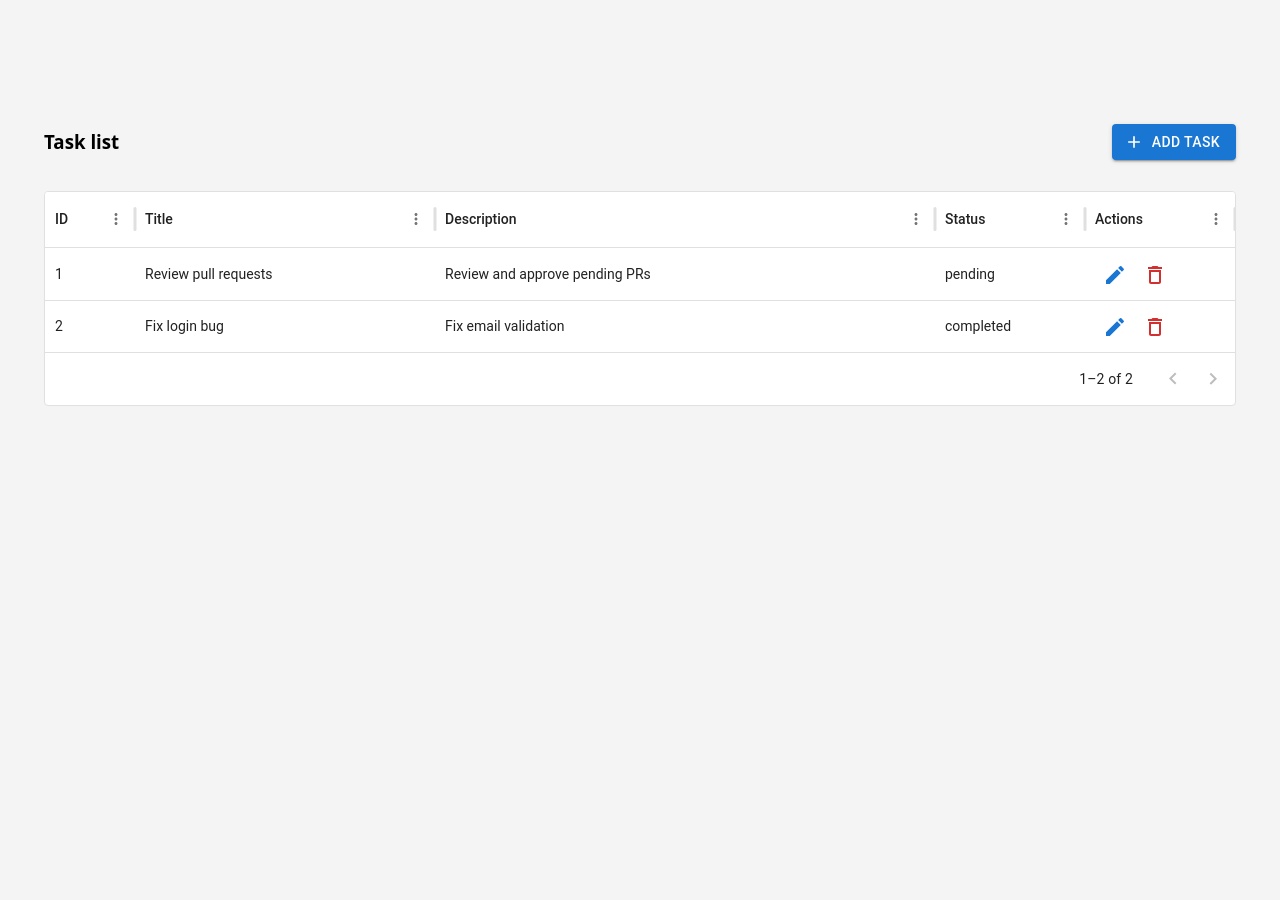
Test case: Tasks › Delete Task › closes confirmation dialog when cancel is clicked
Expected: the text "Review pull requests" is shown, [145,266,273,282]
Click the button named "Delete" in the row of "Review pull requests": coordinates (1155, 275) [1135,255,1175,295]
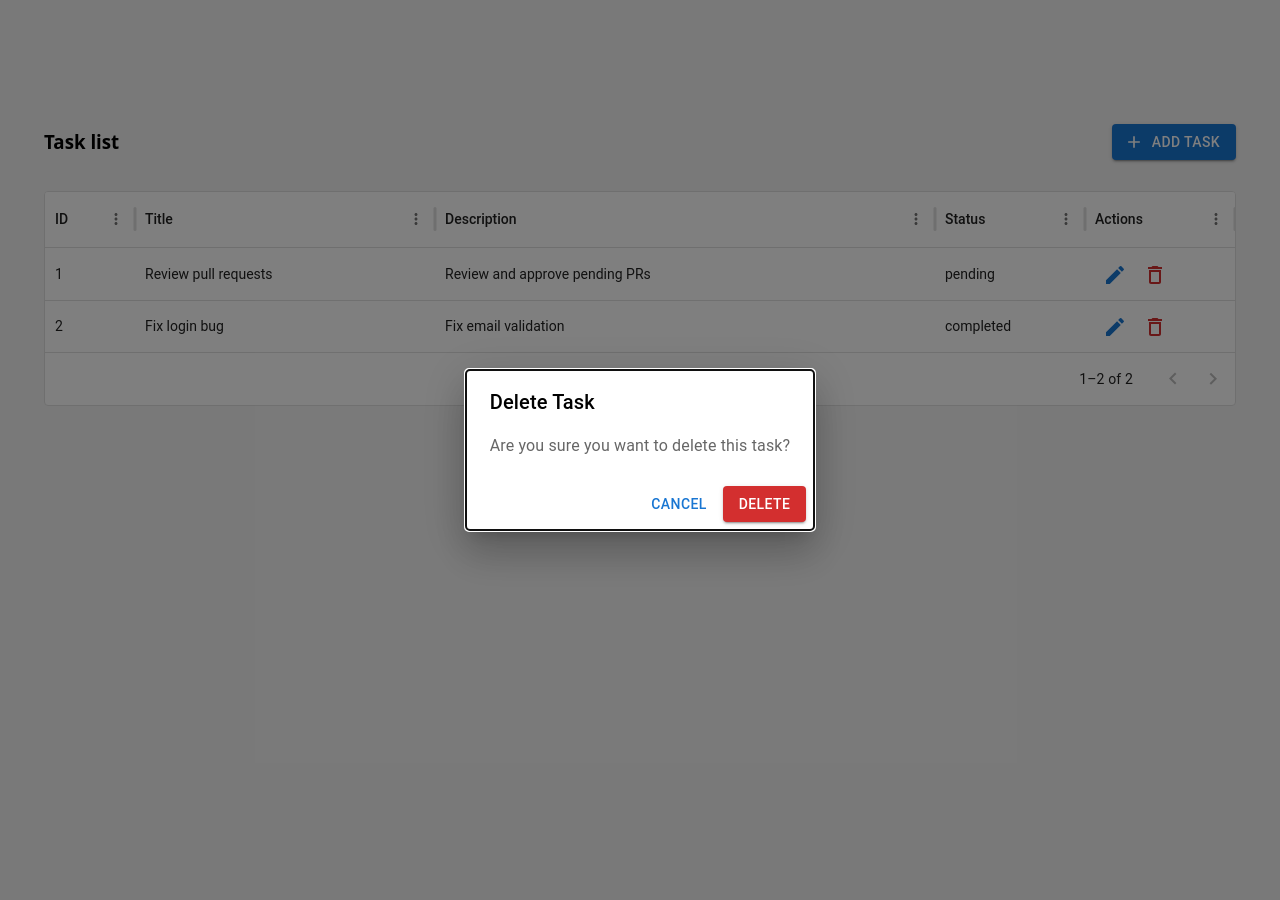
Expected: the heading "Delete Task" is shown, [490,390,595,414]
Click the button "Cancel": coordinates (679, 504) [643,486,715,522]
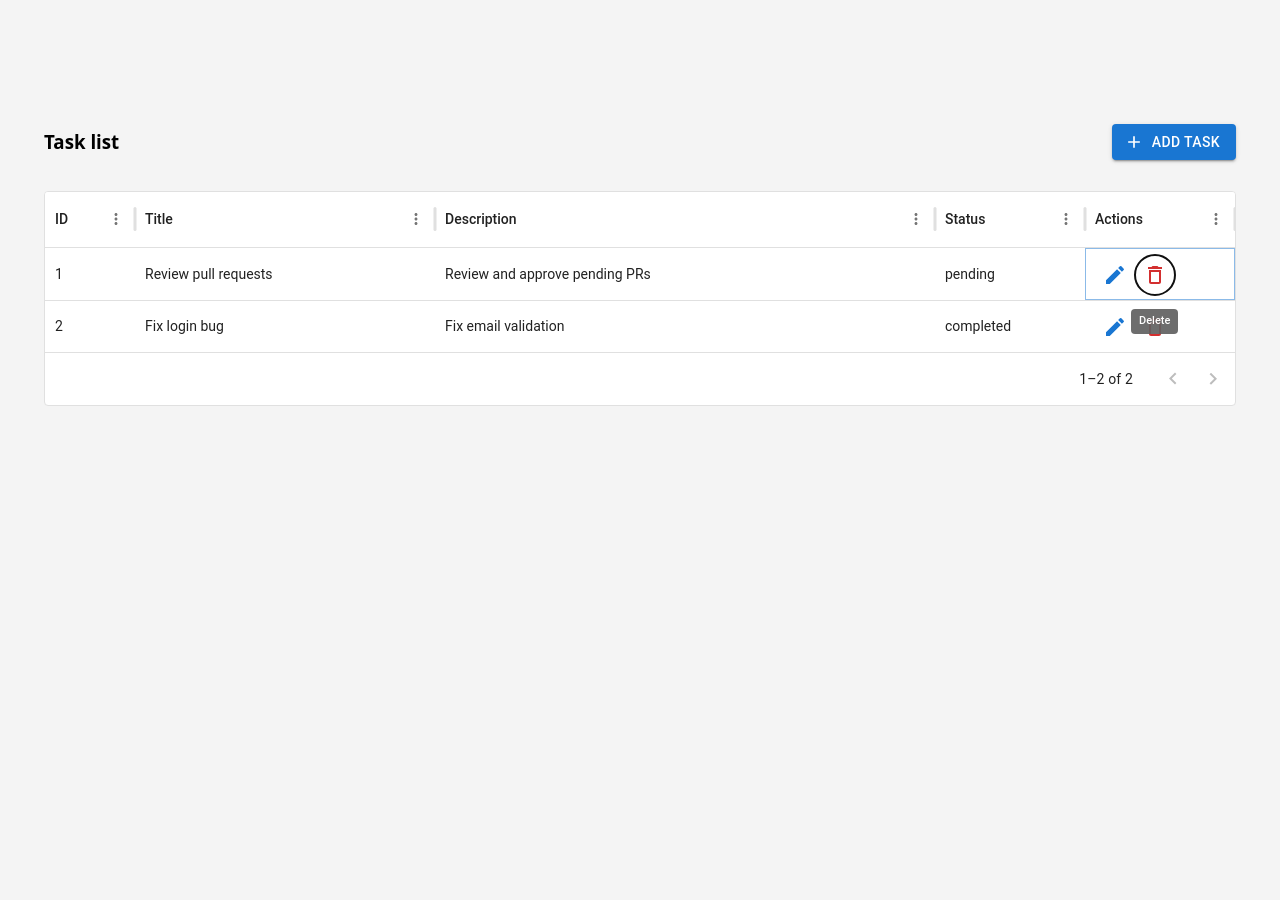
Expected: the heading "Delete Task" is gone
